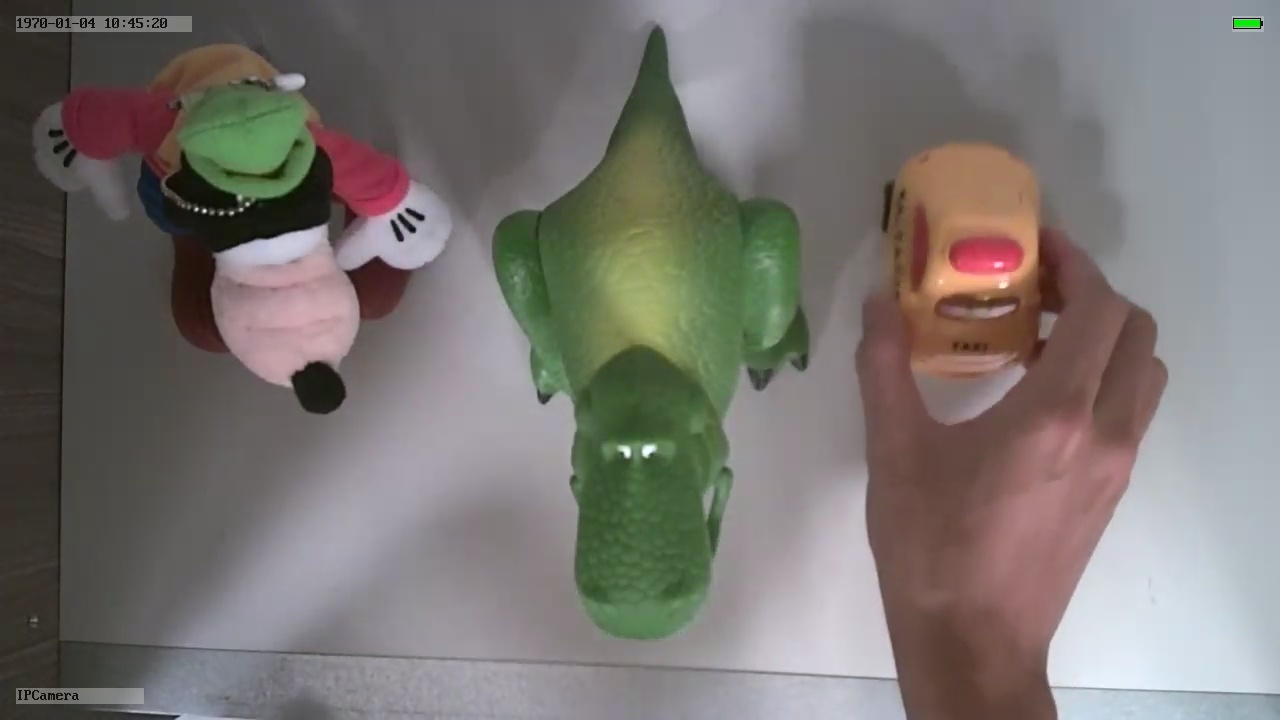goofy: (29, 42, 457, 415)
rex: (492, 117, 812, 642)
